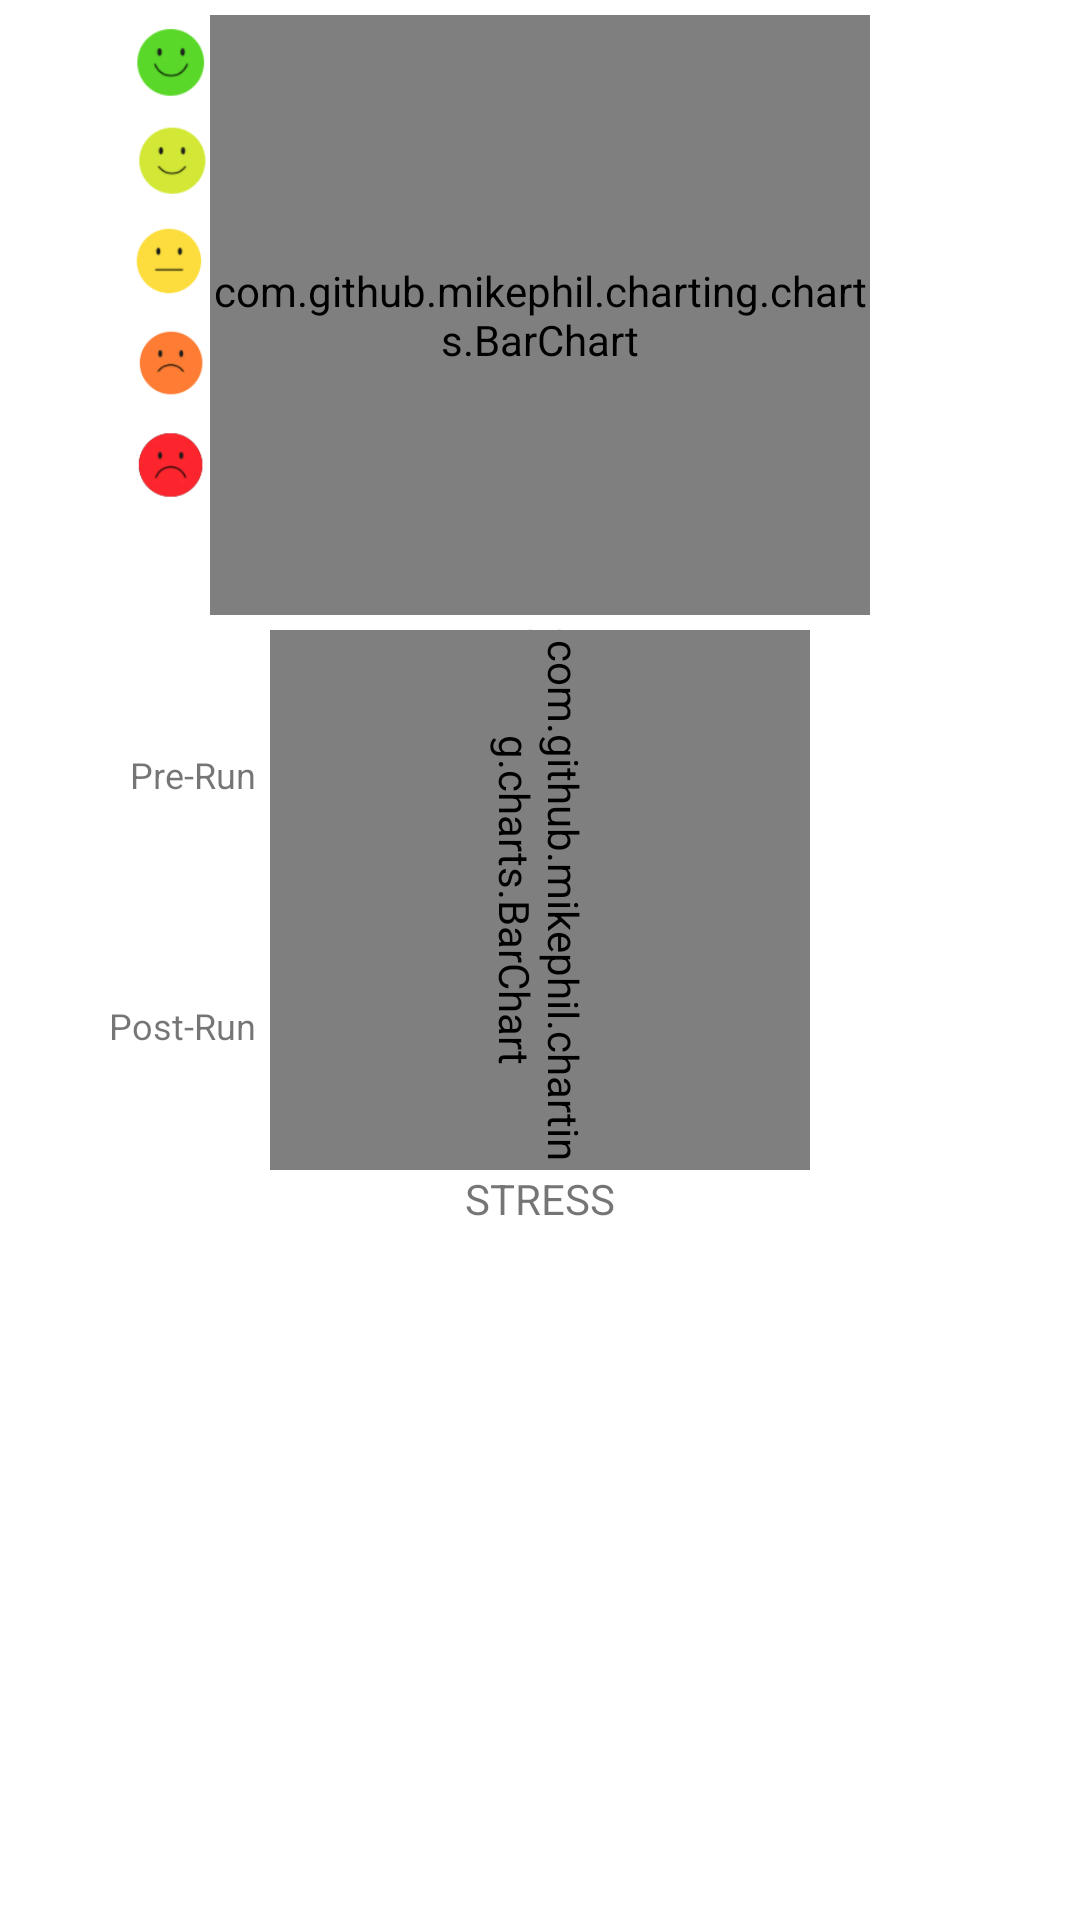

Where icons sit on this 1080*1920 app screen, as (x1, y1, x2, y2):
angriestcropped: (138, 433, 203, 497)
happiestcropped: (137, 29, 205, 96)
mediumfacecropped: (136, 228, 202, 294)
smallorangecropped: (139, 331, 203, 395)
